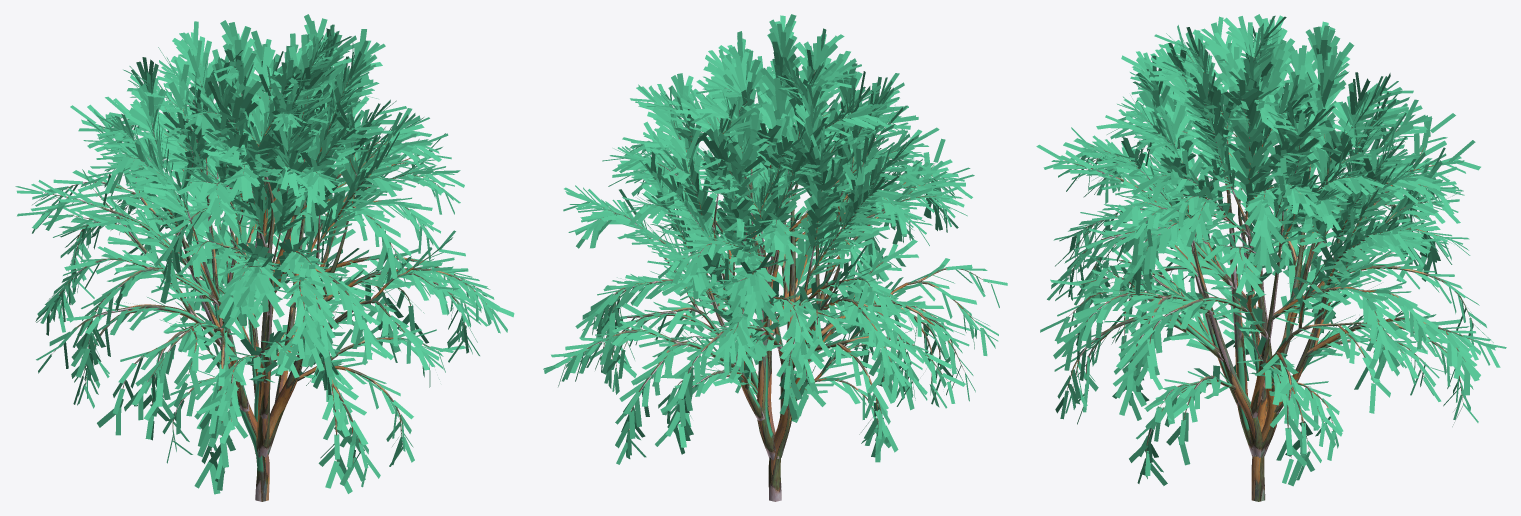
The model's file is tree1.fbx.
3 views of the same model, side by side, from view 1: azimuth 30°, elevation 25°; view 2: azimuth 150°, elevation 25°; view 3: azimuth 270°, elevation 25° (orthographic). The views are drawn at different scales.
Parts seen in each view (by area): view 1: leaves, tree; view 2: leaves, tree; view 3: leaves, tree.
Part boxes in pixels (<box>): leaves: <box>15,14,514,494</box>; tree: <box>41,63,491,501</box>; leaves: <box>543,14,1007,464</box>; tree: <box>569,70,990,501</box>; leaves: <box>1036,14,1506,486</box>; tree: <box>1064,49,1474,501</box>.
Bounding box in the file's own units: 579 × 684 × 607.
Materials: 1 (1 with a texture image).
